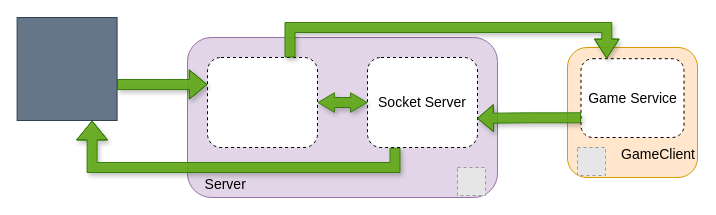
Some shapes in this 716 by 215 pixel diagram are drawn without their labels. Grey dashed boxes stand in for pictures. Here are the shapes that lost their labels. From the top down, the centre of each, then its label:
point 66,68: Externe Anwendung -------------------- Webseite -------------------- Auto-Tests
point 262,102: FastAPI Server
